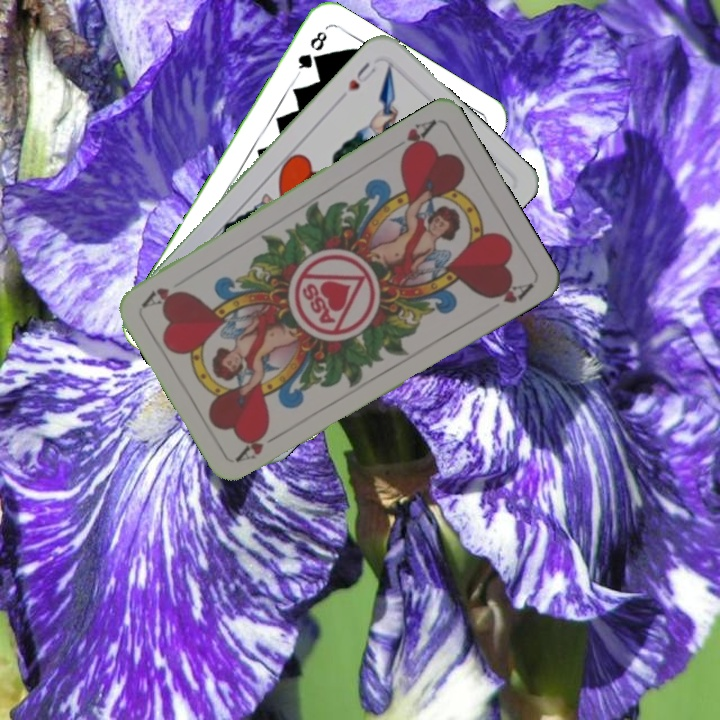G8: (293, 26, 330, 72)
HA: (233, 425, 287, 464), (395, 115, 439, 161)
HU: (344, 58, 379, 94)
